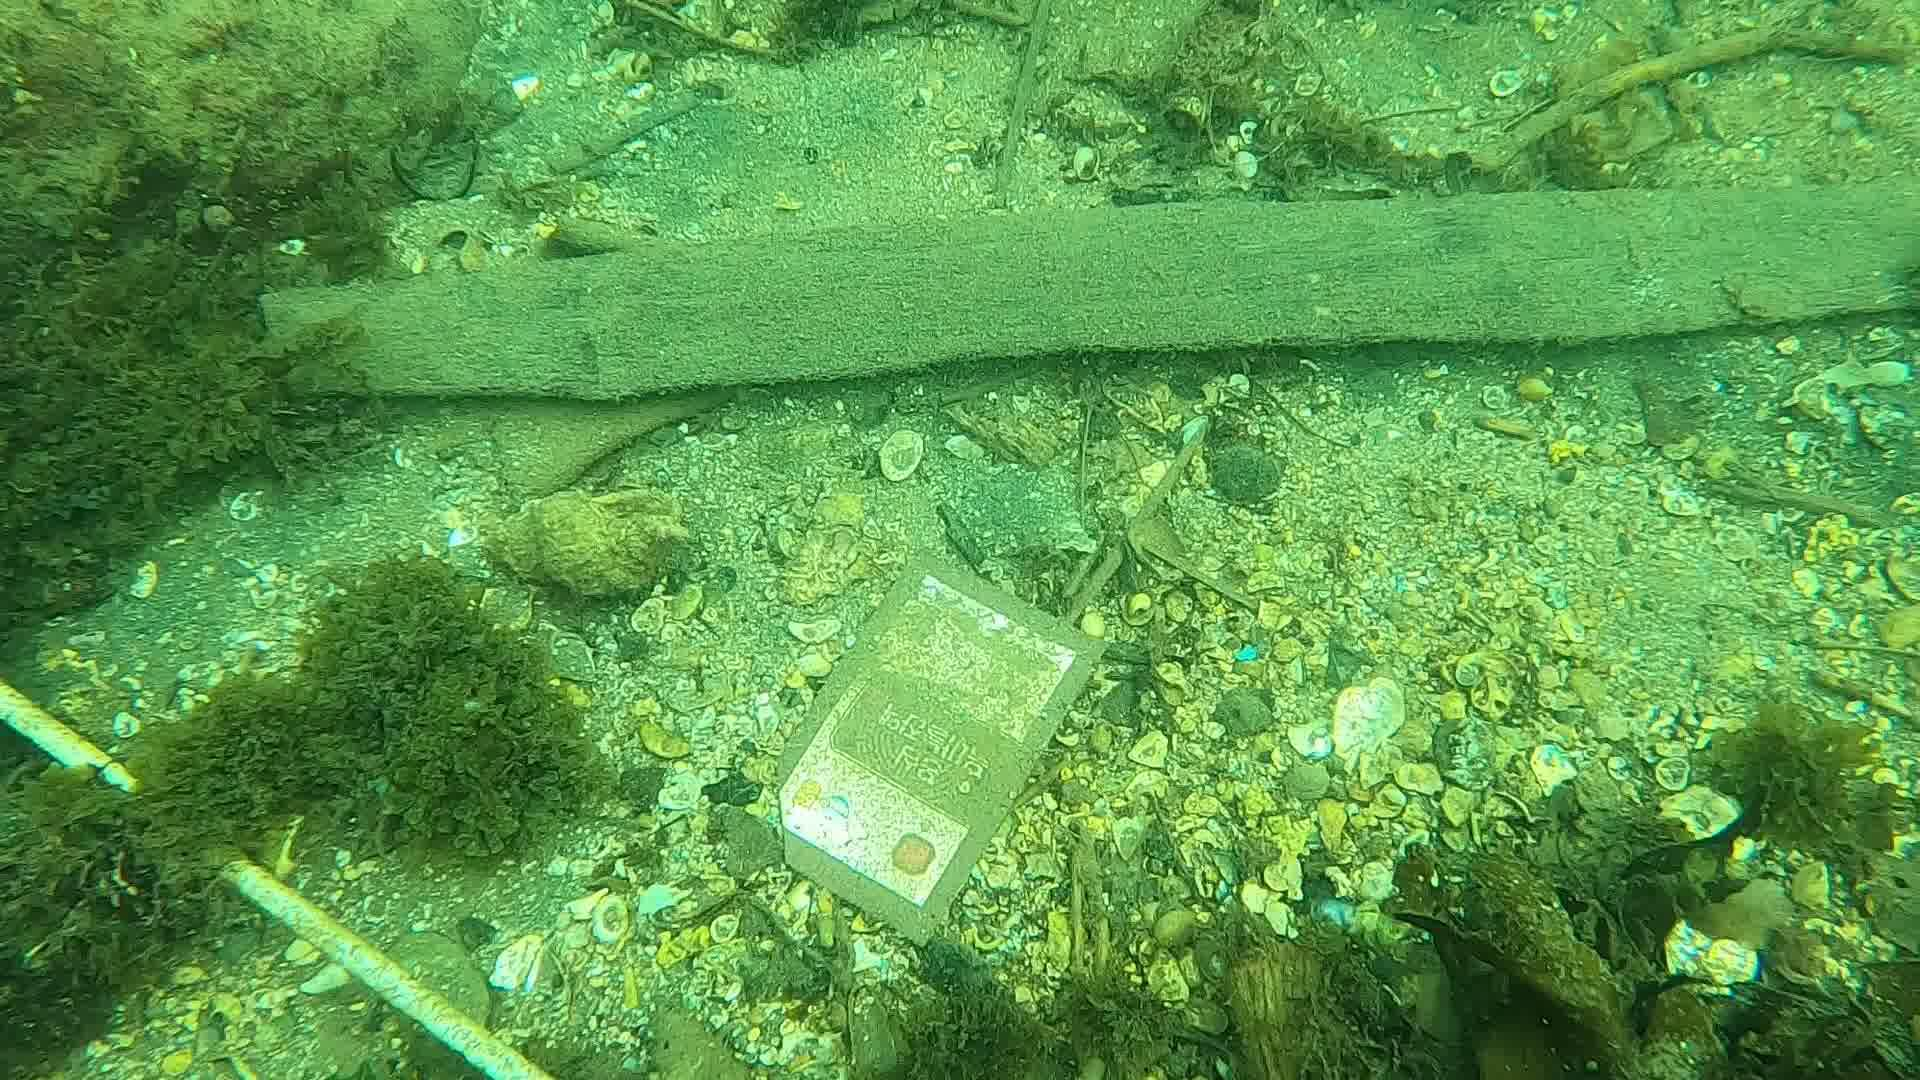wood: (256, 173, 1920, 402)
